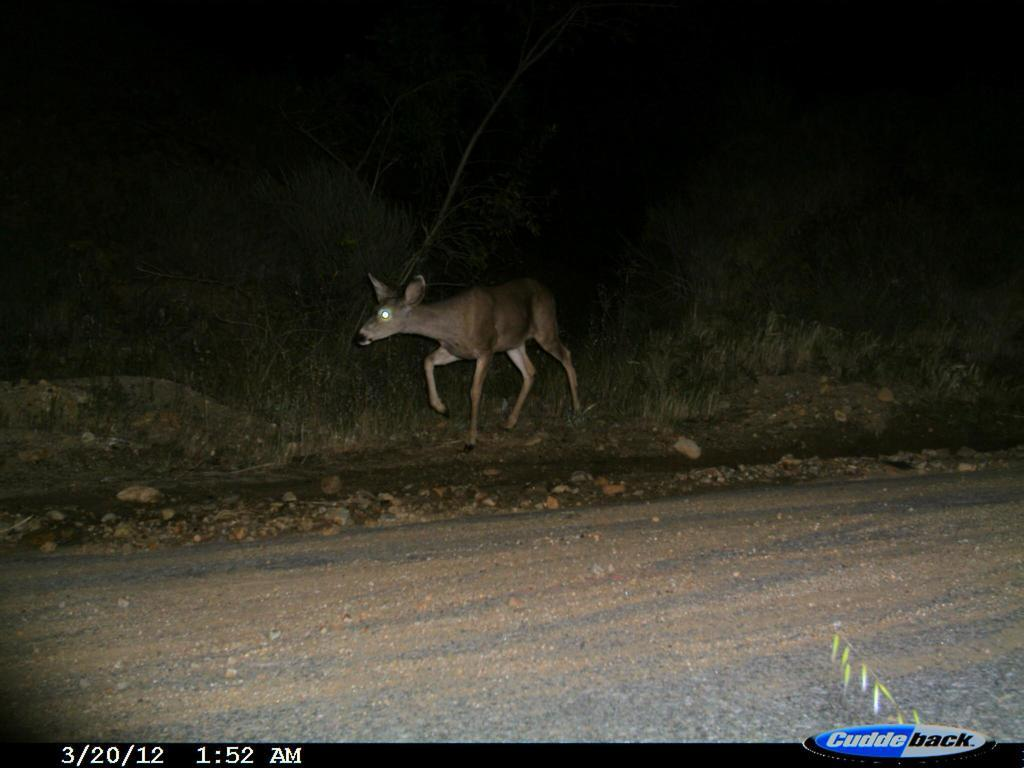deer: (353, 268, 592, 463)
